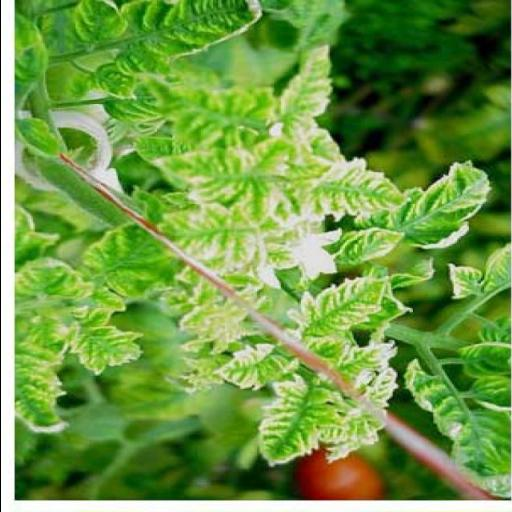Yellow Leaf Curl Virus: (396, 342, 512, 500), (145, 135, 299, 225), (116, 0, 270, 63), (390, 158, 492, 250), (252, 379, 350, 469), (14, 314, 74, 438), (284, 274, 387, 346), (308, 154, 410, 224), (272, 40, 346, 130), (68, 306, 150, 378), (14, 252, 92, 302), (209, 345, 291, 392)
